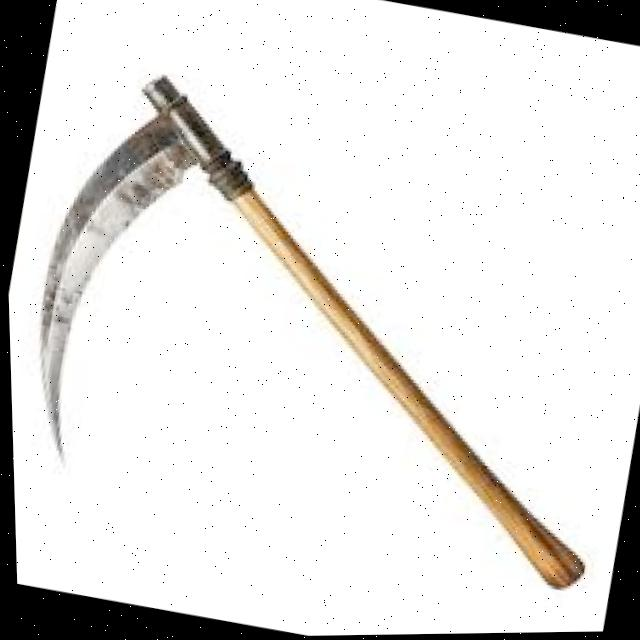sickle: (0, 3, 640, 640)
